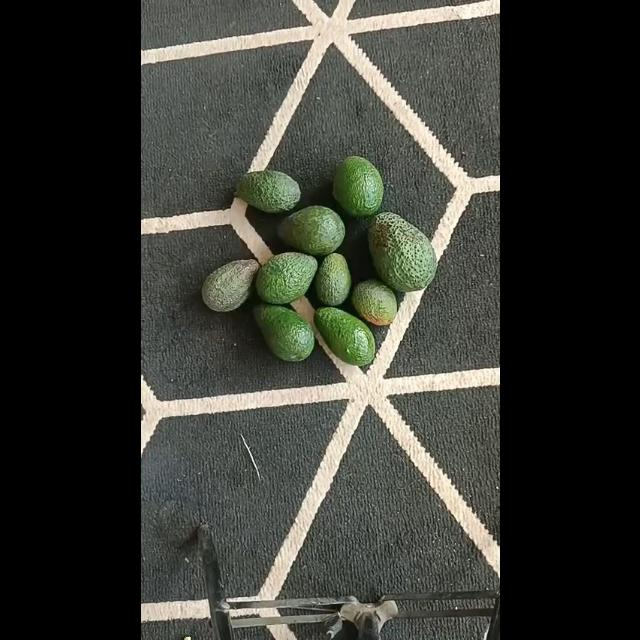Primera: (367, 211, 435, 291)
Segunda: (251, 303, 313, 362), (314, 306, 374, 366), (255, 252, 318, 304), (332, 155, 384, 217)
Tercera: (279, 205, 345, 255), (201, 258, 259, 312), (233, 169, 299, 213), (349, 278, 396, 326), (313, 252, 351, 306)
